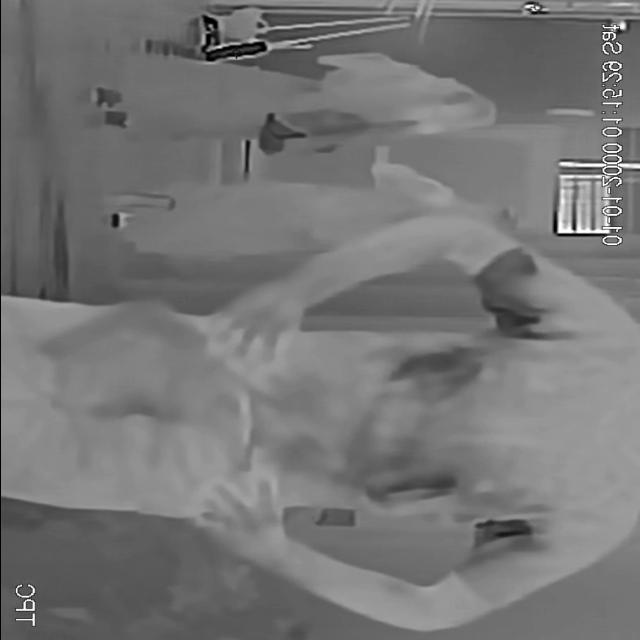Weapon: (25, 282, 222, 367)
